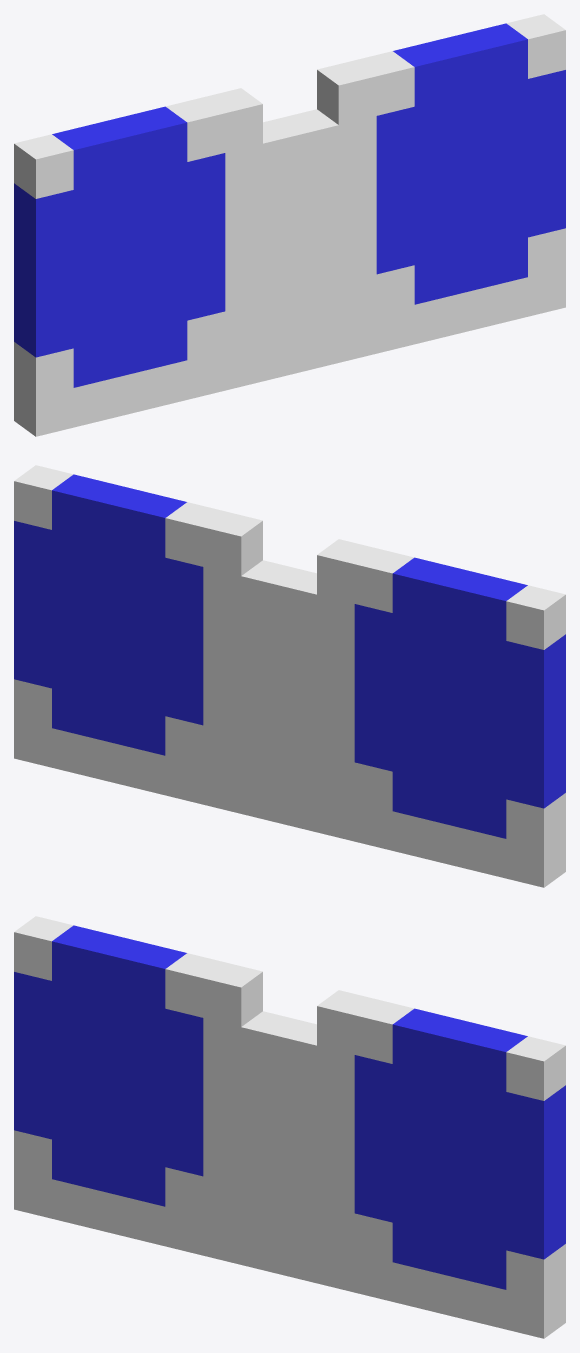
3 renders of one model, top to bottom at view 1: azimuth 30°, elevation 25°; view 2: azimuth 150°, elevation 25°; view 3: azimuth 330°, elevation 25°, orthographic.
Parts seen in each view (by area): view 1: eye-shapes044, eye-shapes075; view 2: eye-shapes044, eye-shapes075; view 3: eye-shapes044, eye-shapes075.
Part boxes in pixels (x1=…): eye-shapes044: x1=14, y1=23, x2=565, y2=387; eye-shapes075: x1=14, y1=14, x2=565, y2=436; eye-shapes044: x1=14, y1=474, x2=565, y2=838; eye-shapes075: x1=14, y1=465, x2=565, y2=887; eye-shapes044: x1=14, y1=925, x2=565, y2=1289; eye-shapes075: x1=14, y1=916, x2=565, y2=1338.
Bounding box in the file's own units: 140 × 70 × 10.
Materials: 2 (2 with a texture image).
